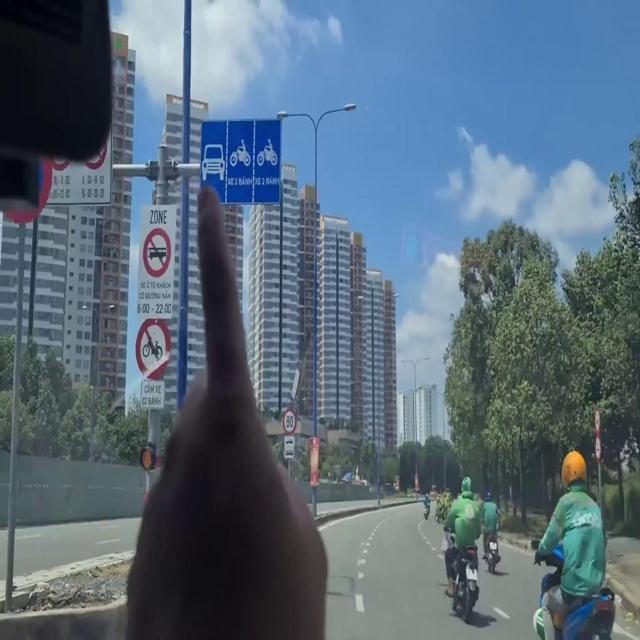Biển phụ: (135, 375, 165, 413), (285, 434, 295, 457)
Cấm các phương tiện hoạt động trong khung giờ cố định: (136, 196, 173, 316)
Cấm xe máy: (134, 320, 173, 374)
Giới hạn tốc độ: 80Km/h: (279, 404, 298, 432)
Làn đường cho từng xe: (197, 112, 289, 214)
